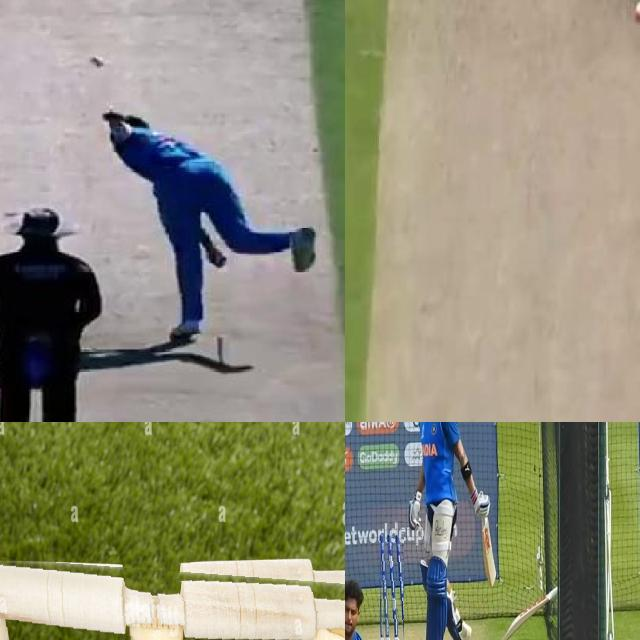Cricket ball: (89, 52, 106, 69)
Stumps: (0, 554, 345, 640), (377, 530, 403, 640)
